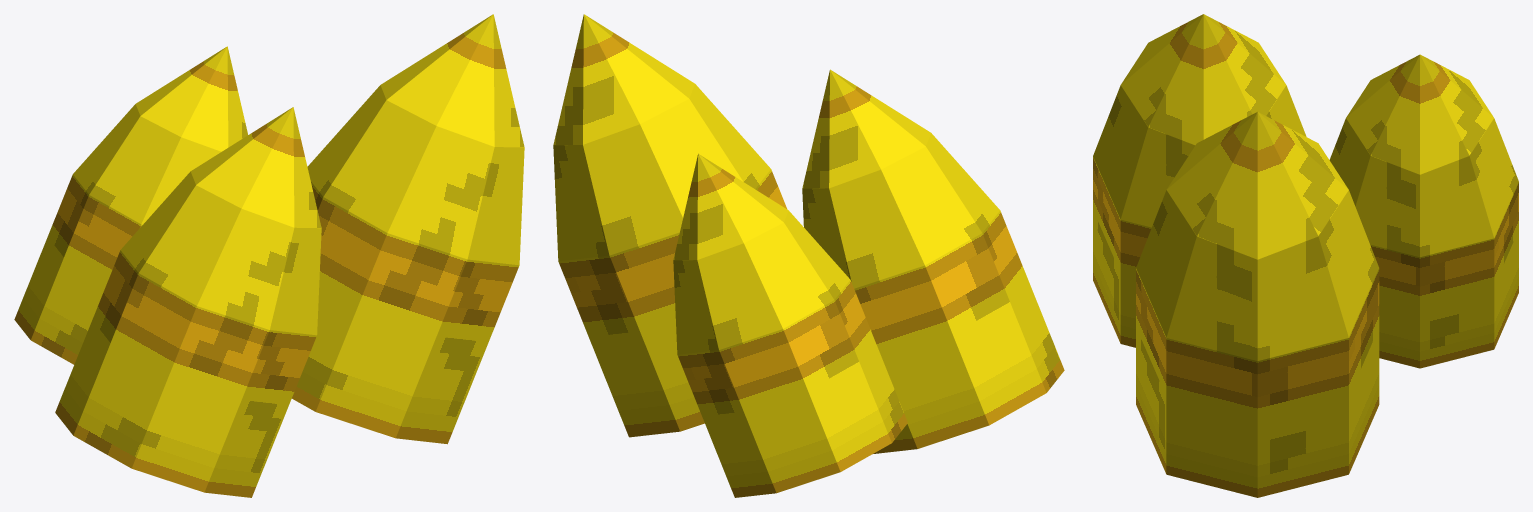
Rendered from bullet.fbx.
3 renders of one model, left to right at view 1: azimuth 30°, elevation 25°; view 2: azimuth 150°, elevation 25°; view 3: azimuth 270°, elevation 25°, orthographic. The views are drawn at different scales.
Visible parts, largest first — view 1: bullet.001; view 2: bullet.001; view 3: bullet.001.
Part boxes in pixels (bbox=[...]): bullet.001: bbox=[14, 14, 524, 497]; bullet.001: bbox=[553, 14, 1064, 497]; bullet.001: bbox=[1093, 14, 1518, 497].
Size of the model in its own units: 109 by 85.84 by 78.69.
Materials: 1 (1 with a texture image).
